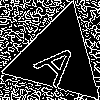A: (33, 33, 90, 91)
